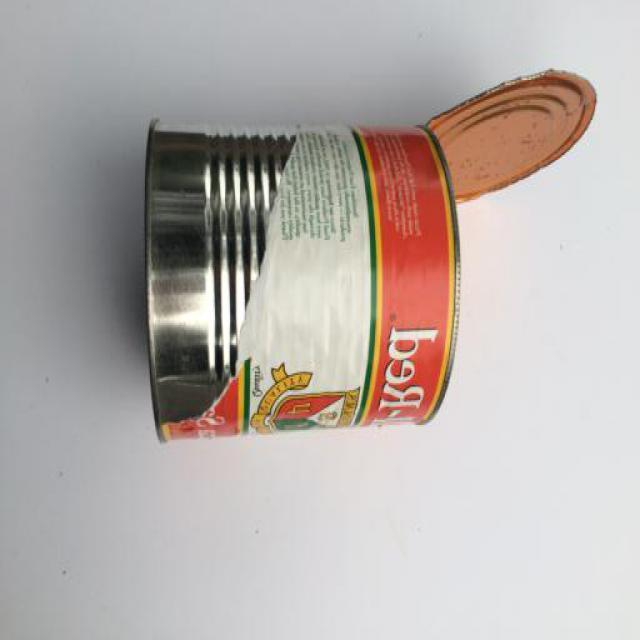metal: (143, 69, 600, 448)
